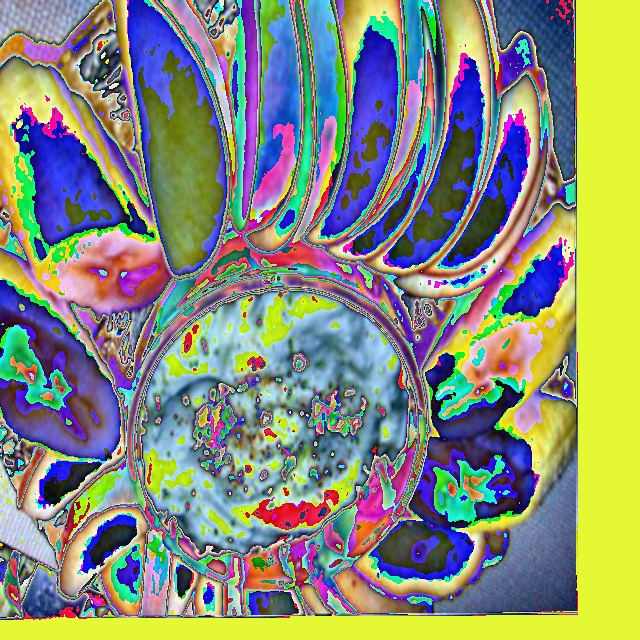background: (0, 0, 577, 618)
